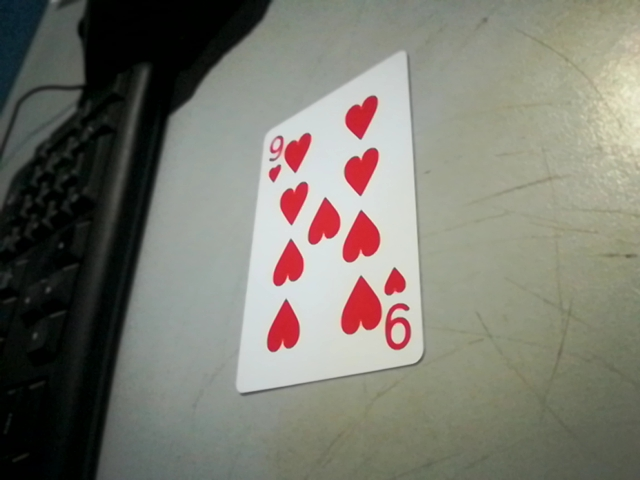hx 9: (382, 275, 421, 356)
